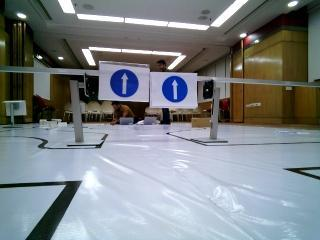straight: (99, 59, 148, 102), (152, 69, 198, 107)
